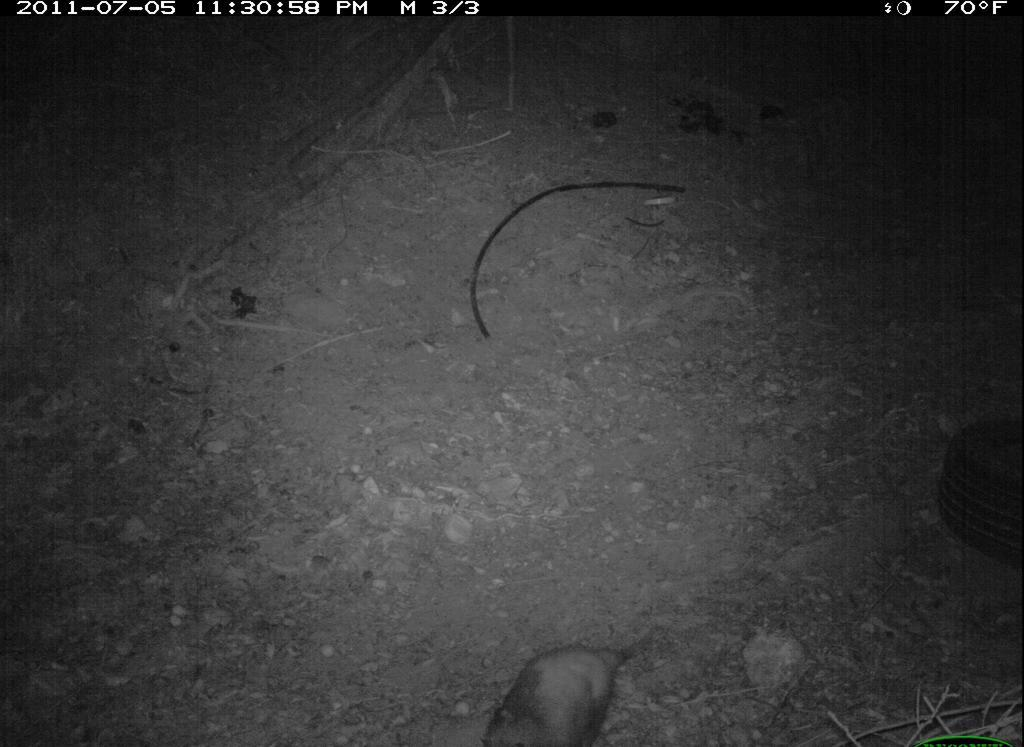opossum: (463, 635, 655, 743)
